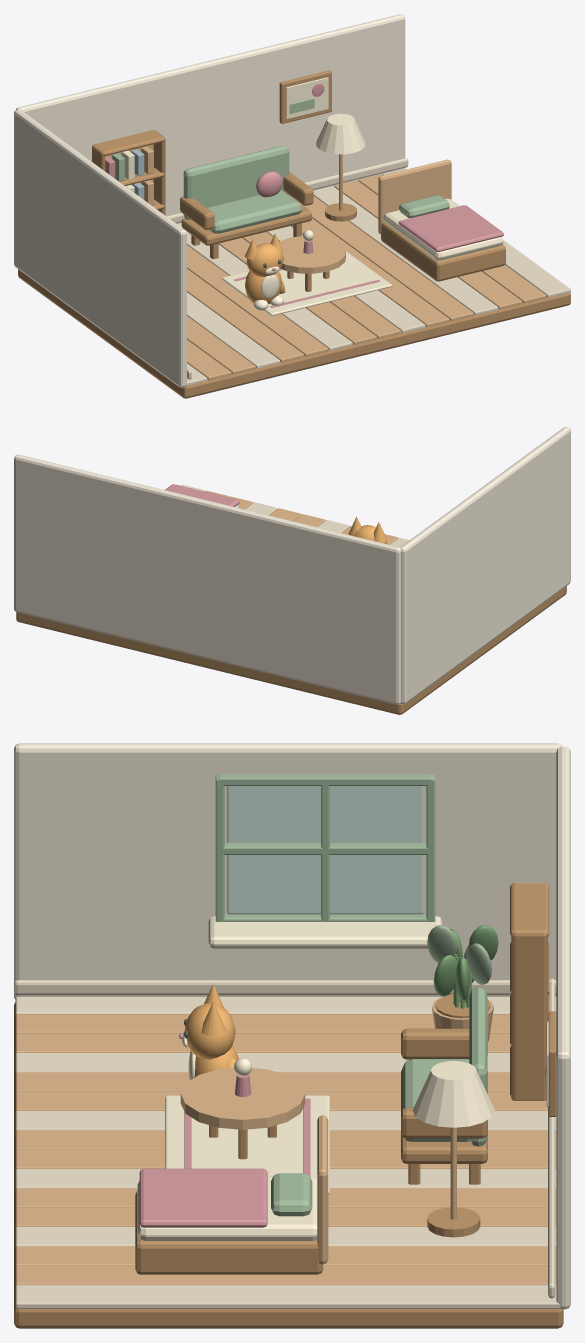
The model's file is cozy-home.glb.
3 renders of one model, top to bottom at view 1: azimuth 30°, elevation 25°; view 2: azimuth 150°, elevation 25°; view 3: azimuth 270°, elevation 25°, orthographic. The views are drawn at different scales.
Visible parts, largest first — view 1: Back wall, Left wall, Floor base, Sofa back, Oak plank.011, Soft rug, Blanket, Headboard, Oak plank.005, Bed frame, Oak plank.004, Oak plank.012 (+28 smaller); view 2: Back wall, Left wall, Floor base, Blanket; view 3: Left wall, Window light, Oak plank.015, Floor base, Oak plank.014, Back wall, Blanket, Oak plank.001, Soft rug, Left trim, Oak plank.002, Oak plank (+38 smaller).
Boxes of the visible parts, box(x1,y1,x2,y2) form: Back wall: box(16, 14, 405, 223); Left wall: box(14, 109, 186, 387); Floor base: box(18, 269, 570, 398); Sofa back: box(183, 146, 289, 219); Oak plank.011: box(291, 196, 473, 321); Soft rug: box(221, 251, 391, 315); Blanket: box(398, 205, 503, 252); Headboard: box(378, 159, 451, 233); Oak plank.005: box(187, 245, 328, 356); Bed frame: box(381, 221, 505, 281); Oak plank.004: box(187, 268, 304, 362); Oak plank.012: box(313, 186, 498, 315); Back wall: box(14, 454, 401, 704); Left wall: box(400, 427, 570, 704); Floor base: box(16, 586, 566, 714); Blanket: box(165, 484, 239, 506); Left wall: box(14, 743, 562, 1000); Window light: box(227, 786, 423, 914); Oak plank.015: box(15, 1285, 560, 1308); Floor base: box(14, 1002, 563, 1328); Oak plank.014: box(15, 1265, 556, 1285); Back wall: box(556, 746, 570, 1309); Blanket: box(139, 1168, 267, 1227); Oak plank.001: box(15, 1014, 509, 1034); Soft rug: box(165, 1095, 329, 1194); Left trim: box(14, 980, 556, 995); Oak plank.002: box(15, 1033, 510, 1053); Oak plank: box(15, 996, 556, 1014).
Size of the model in its own units: 8.08 by 3.33 by 6.08.
